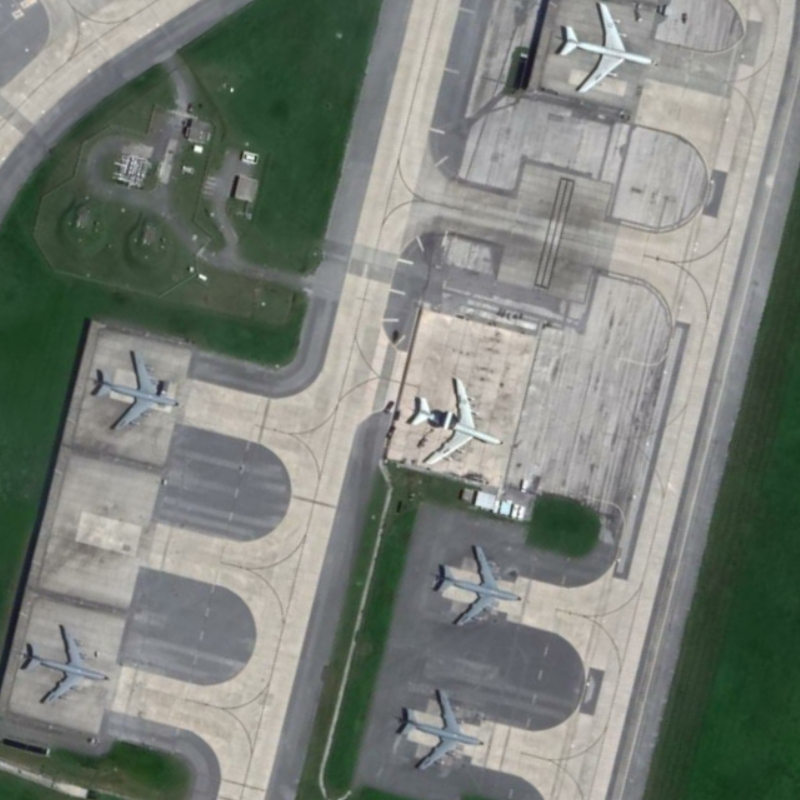A11: (548, 1, 662, 97)
A14: (427, 537, 526, 633), (85, 344, 185, 439), (15, 619, 115, 713), (389, 684, 488, 777)
A7: (403, 372, 504, 472)
